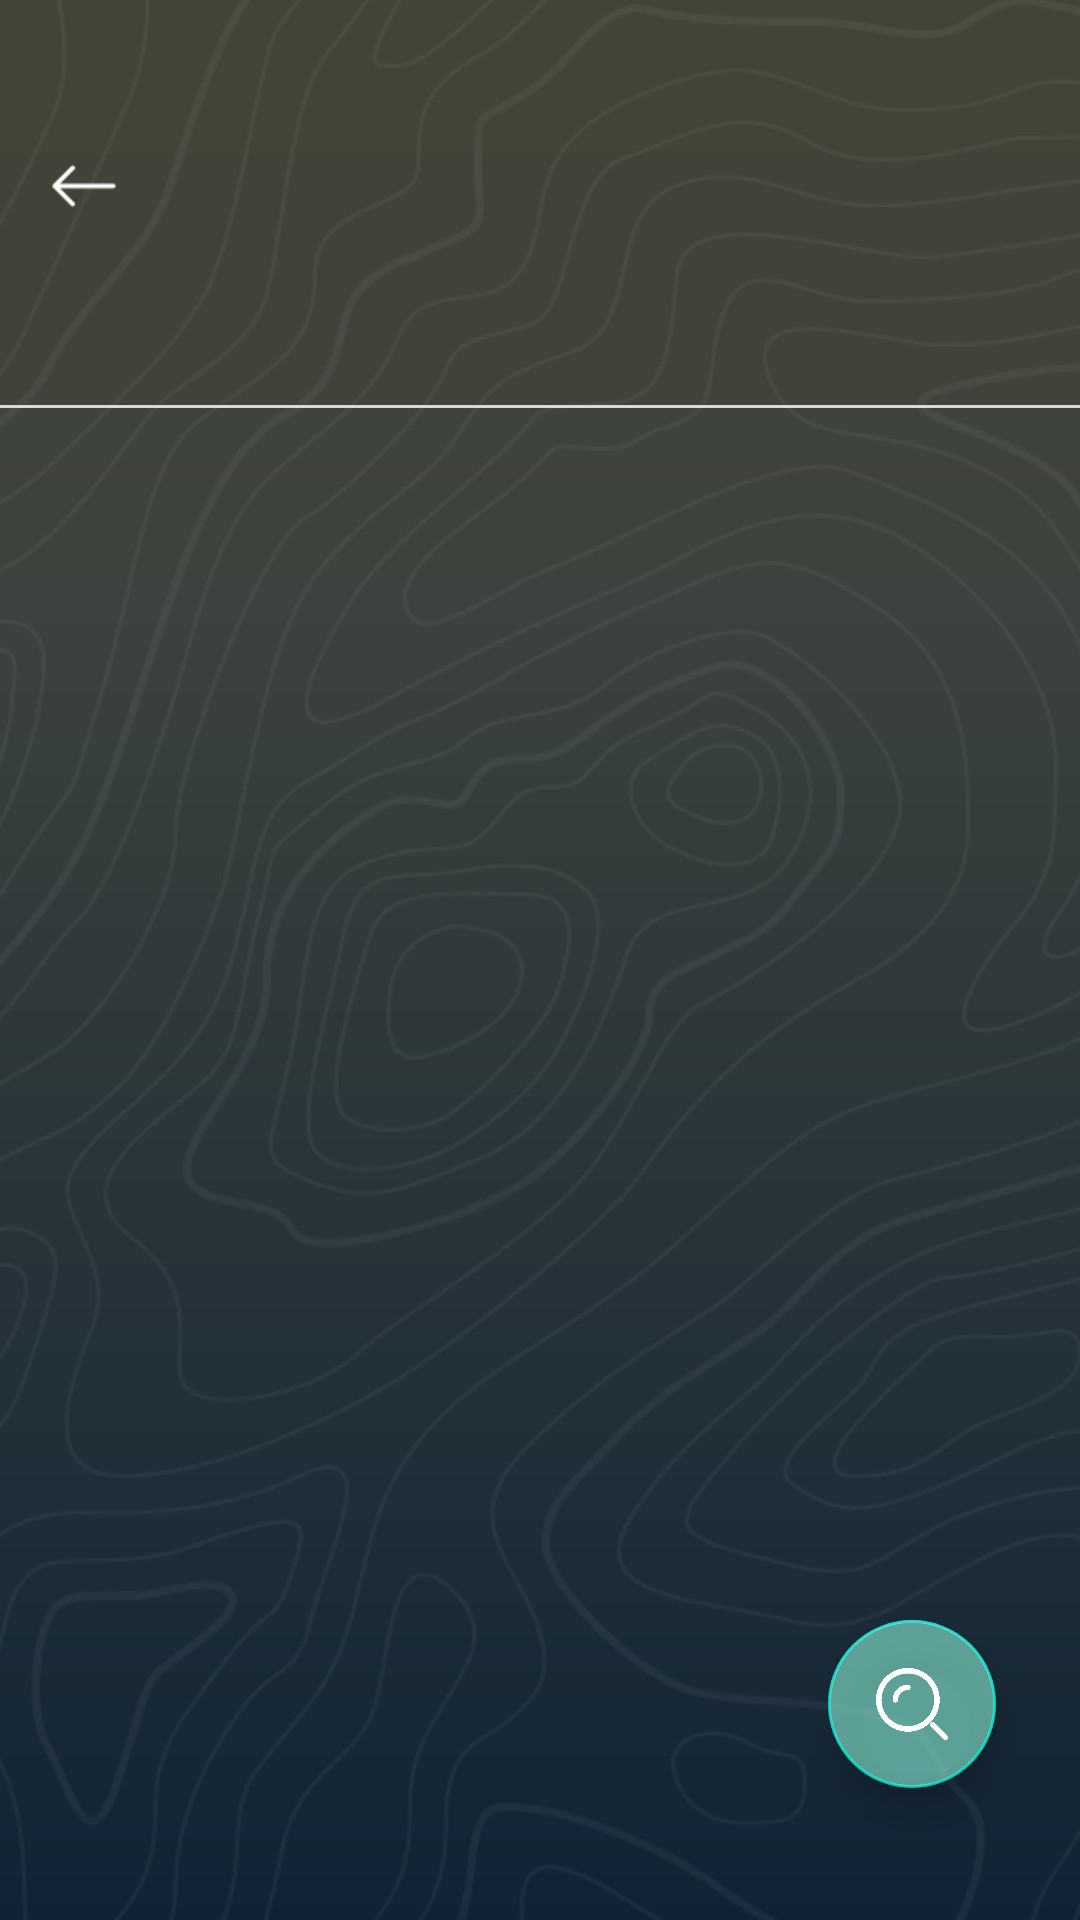

Point at icon controls on the screen. Image size 1080x1920, points as [x,y].
arrow left: [84,186]
search: [912,1704]
